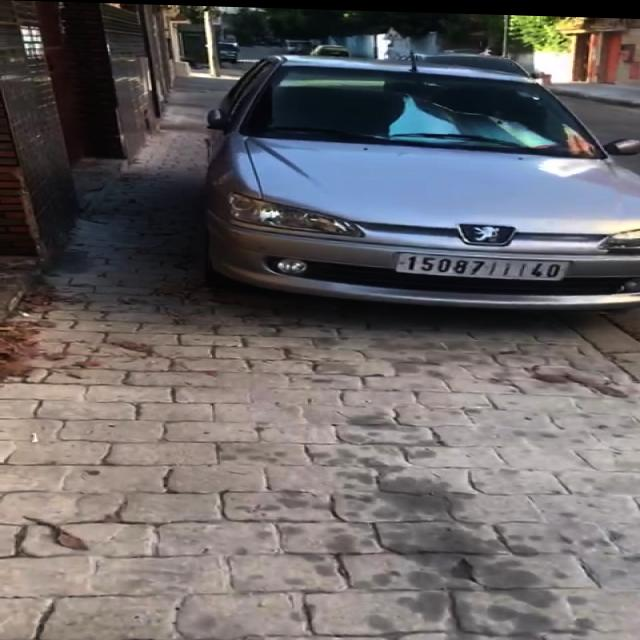License-Plate: (395, 251, 569, 276)
